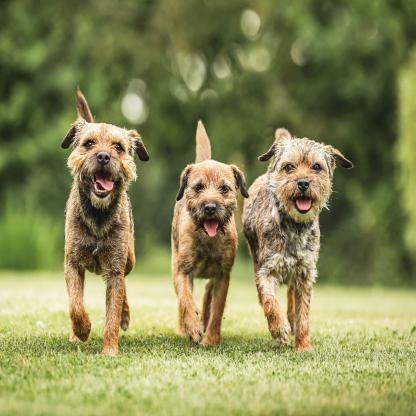Border Terrier: (58, 79, 150, 358), (166, 114, 253, 369), (244, 126, 344, 347)
